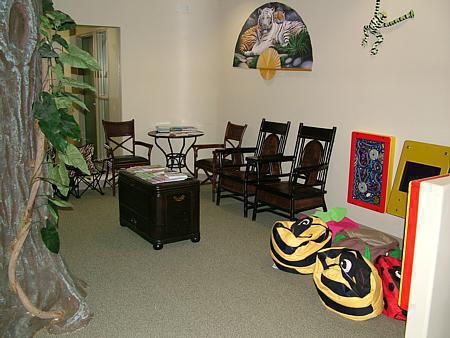Otro Obstaculo: (312, 248, 387, 318), (267, 221, 330, 269)
